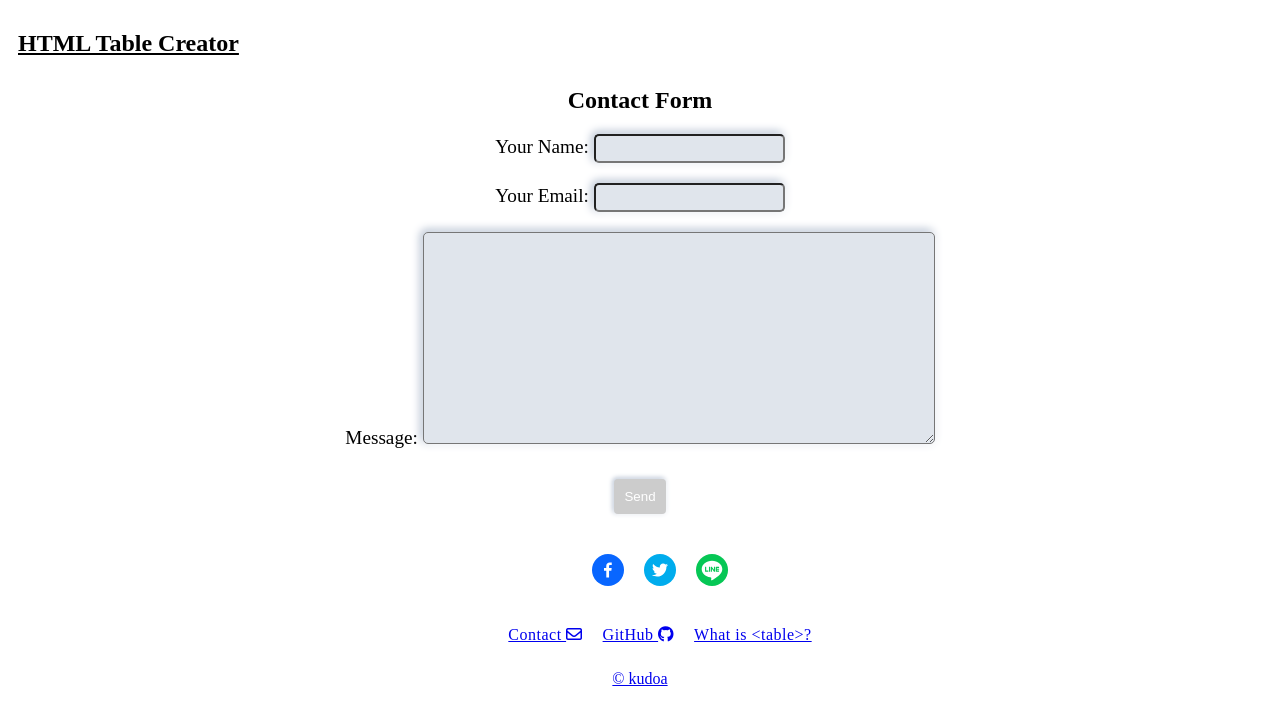
Scenario: Contact › renders and enables submit after message input
Expected: the button "Send" is disabled, [614,479,666,514]
Type "Kudoa" into the field labelled "Your Name:" at point(689, 148), box [594,134,785,163]
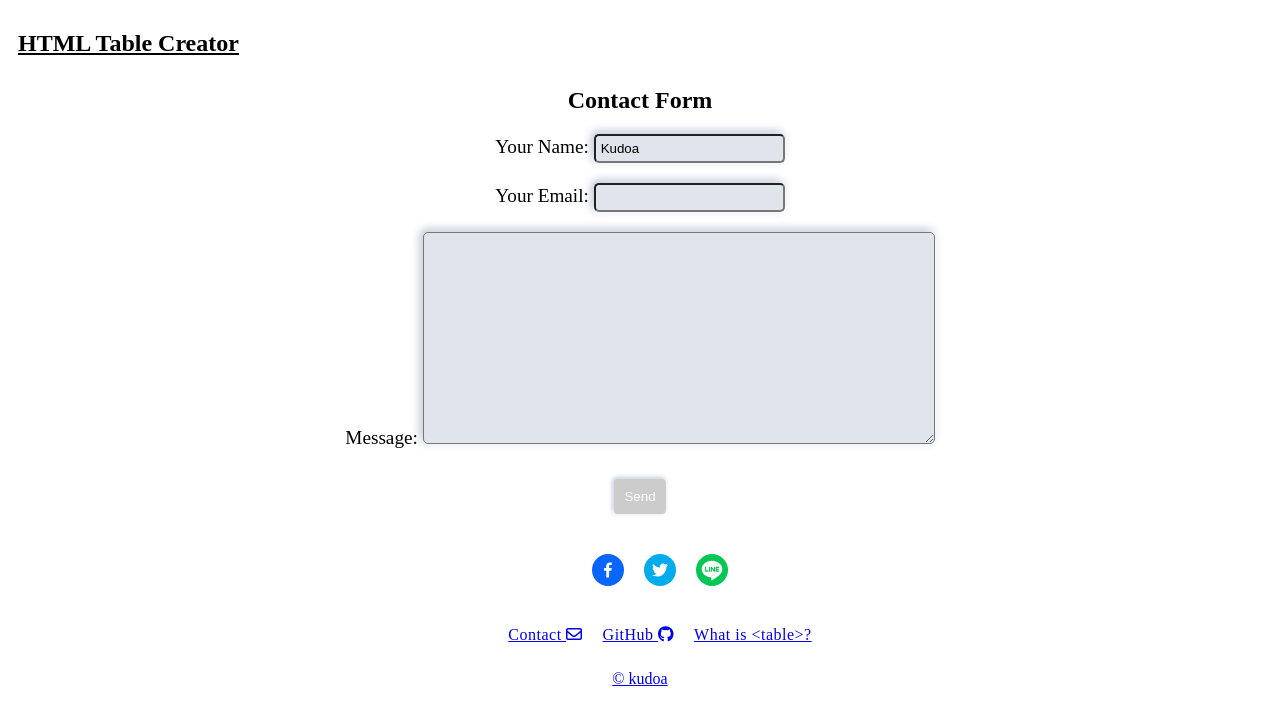
Type "kudoa@example.com" into the field labelled "Your Email:" at point(689, 197), box [594,183,785,212]
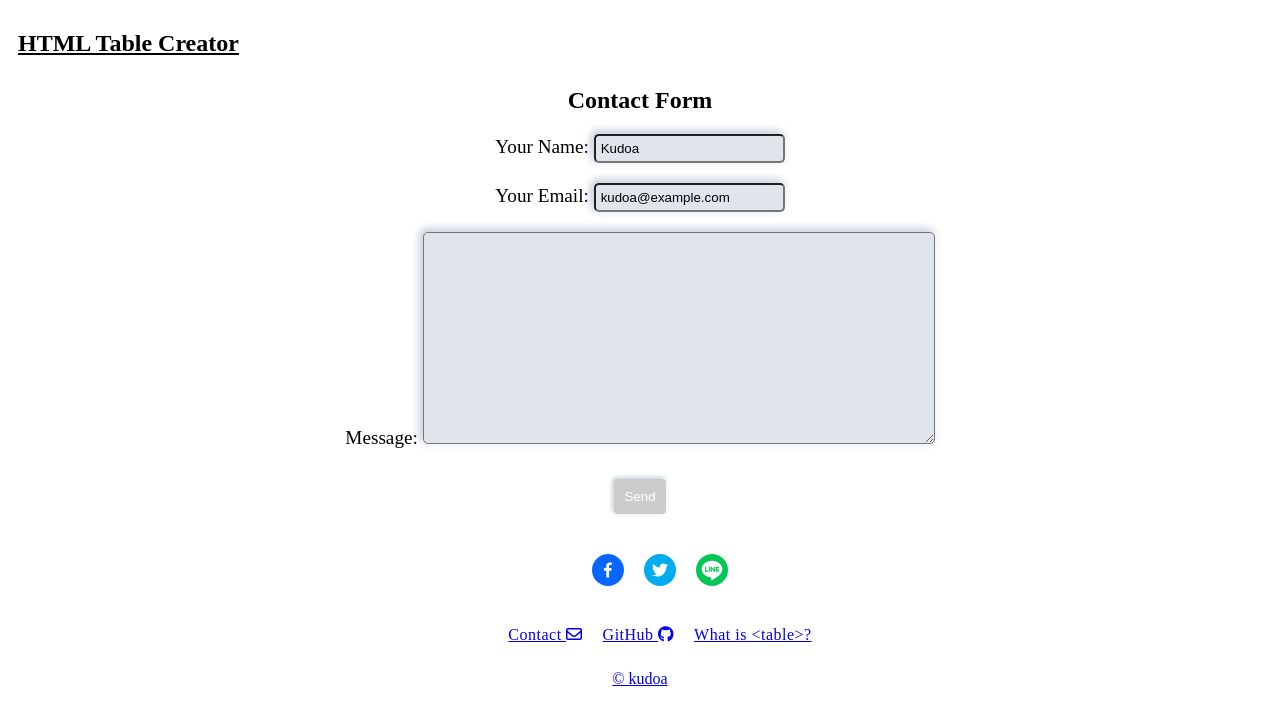
Type "Hello" into the text box labelled "Message:" at point(679, 338), box [423,232,935,444]
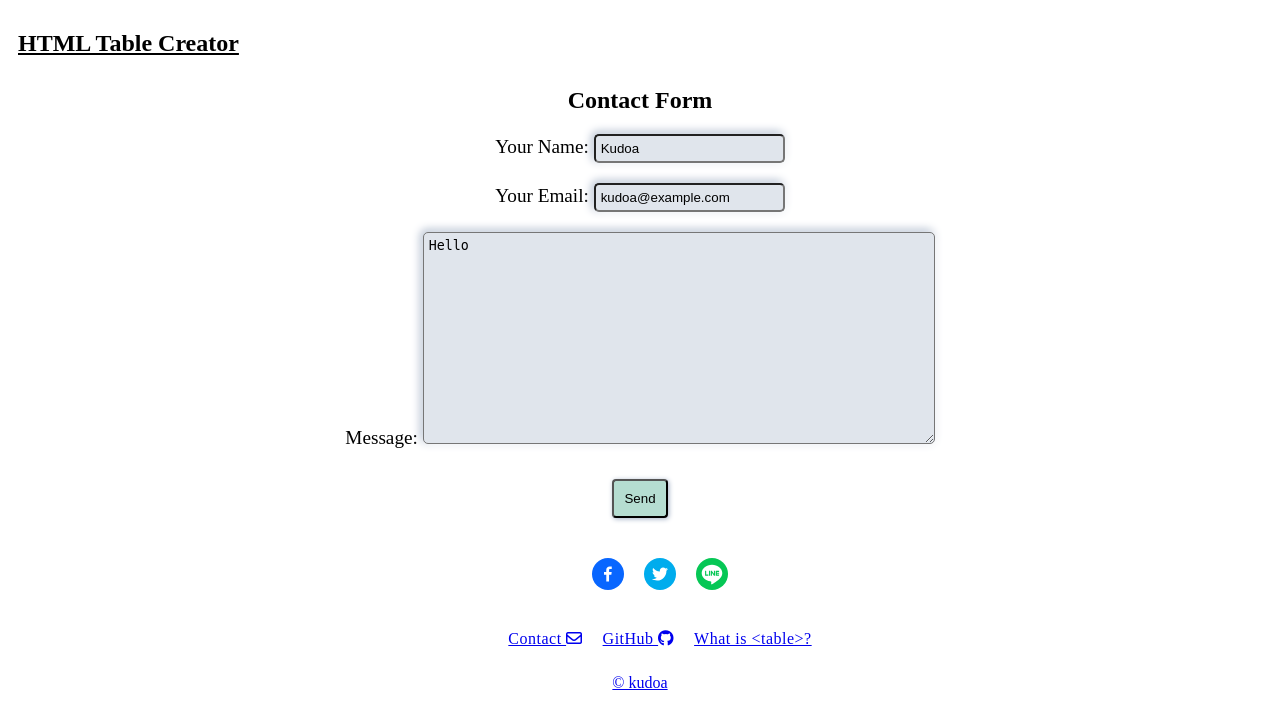
Expected: the button "Send" is enabled, [612,479,668,518]
